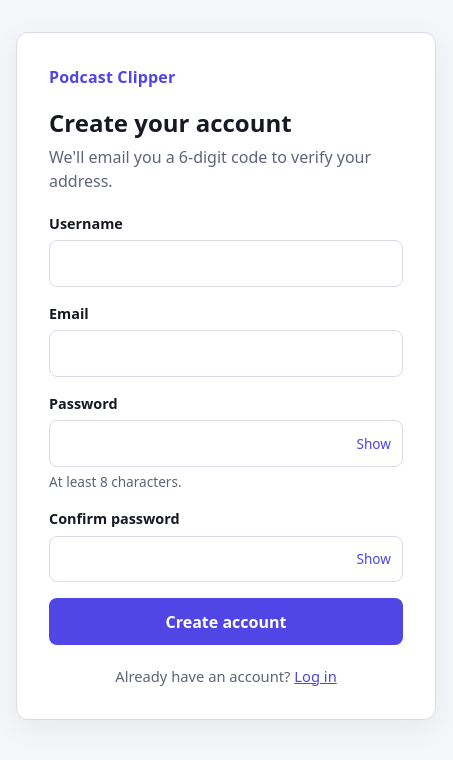
registration › shows the cooldown message from a 429
The width and height of the screenshot is (453, 760).
In the field labelled "Username": coordinates (226, 264) [49,240,403,287], type "Muneeb"
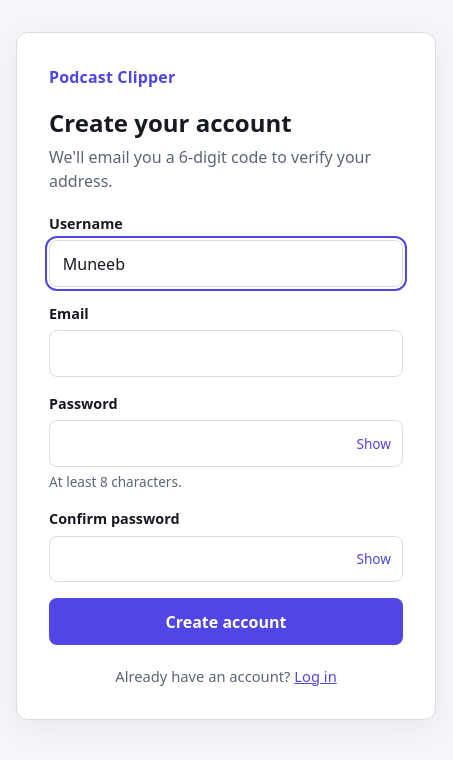
In the field labelled "Email": coordinates (226, 354) [49,330,403,377], type "muneeb@example.com"
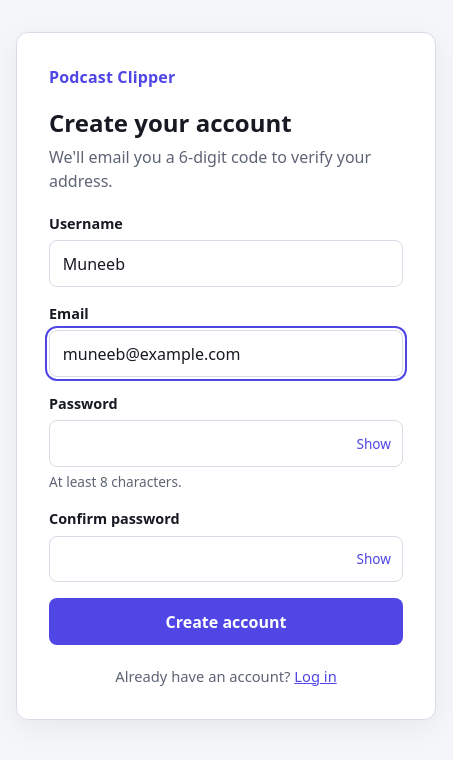
In the password field labelled "Password": coordinates (226, 444) [49,420,403,467], type "Str0ngPass!"
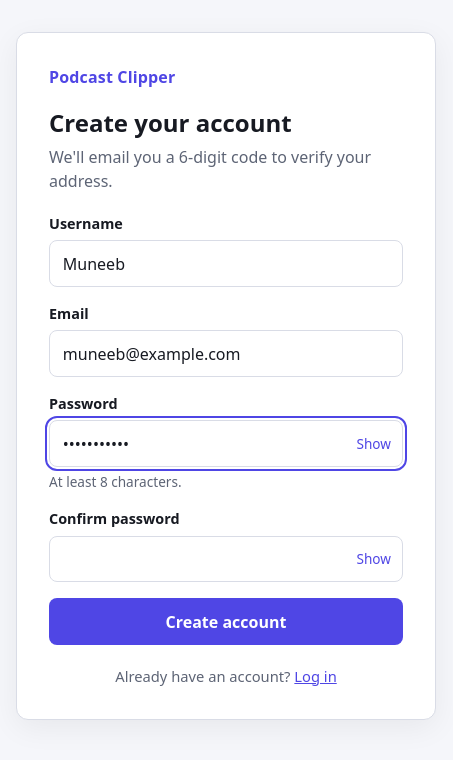
In the password field labelled "Confirm password": coordinates (226, 559) [49,536,403,582], type "Str0ngPass!"
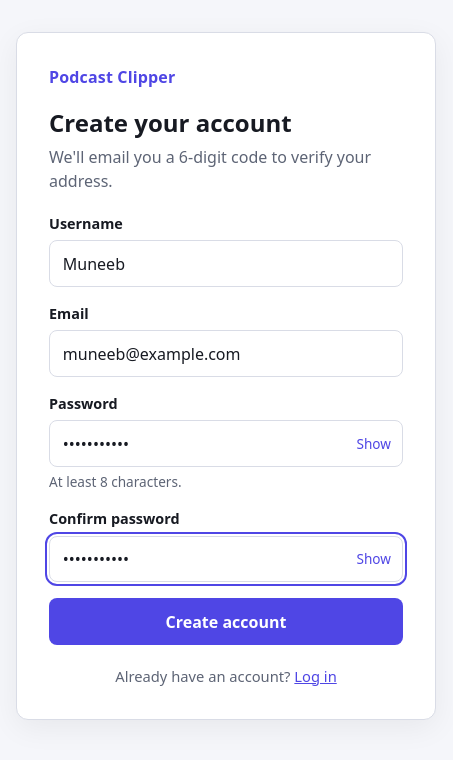
Click the button "Create account": coordinates (226, 622) [49,598,403,645]
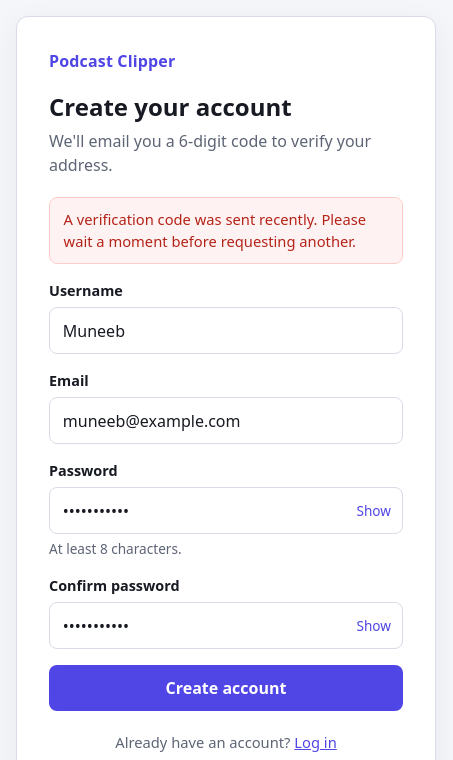
Now the message shows "sent recently", box [64,209,366,252]
